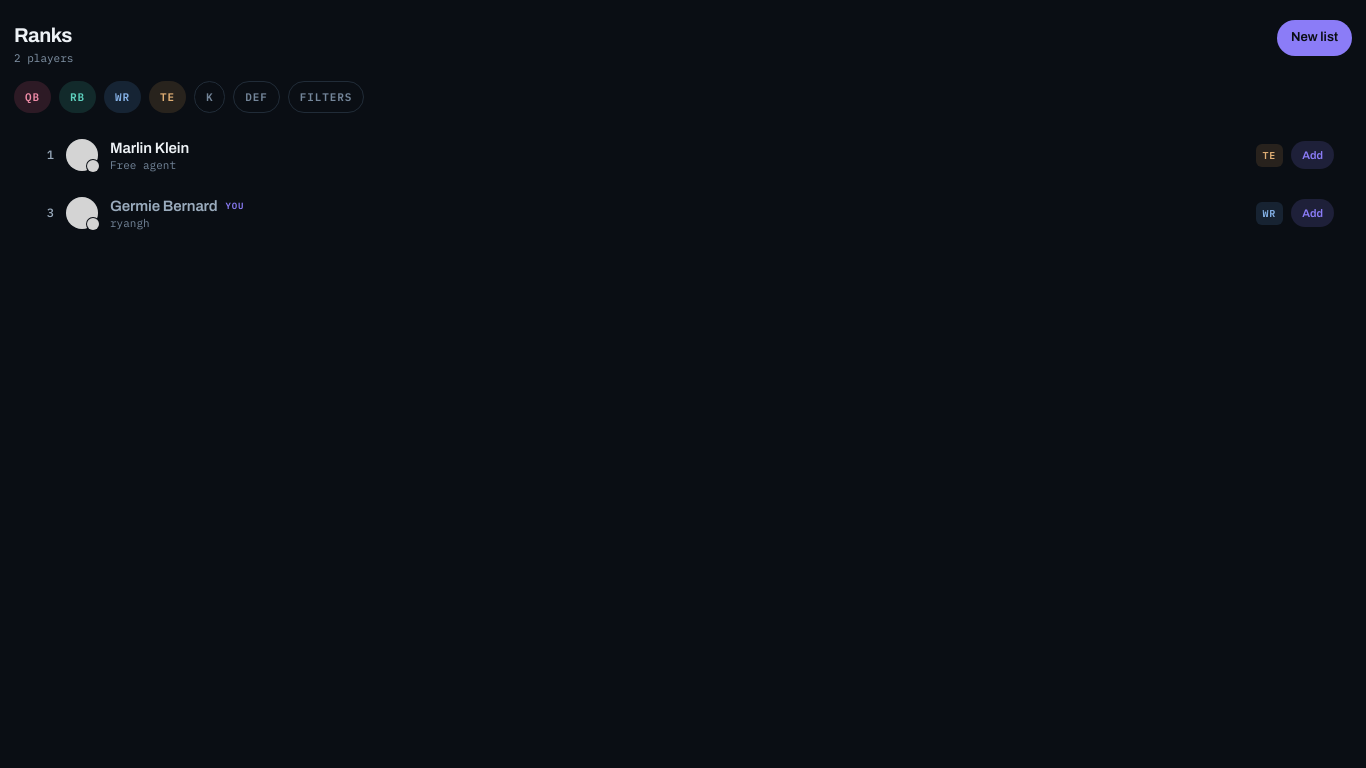
Scenario: RanksPanel player filters › counts non-default filters on the FILTERS chip, and shows no count when everything is default
Click the button "FILTERS".
click(326, 97)  # box [288, 80, 364, 113]
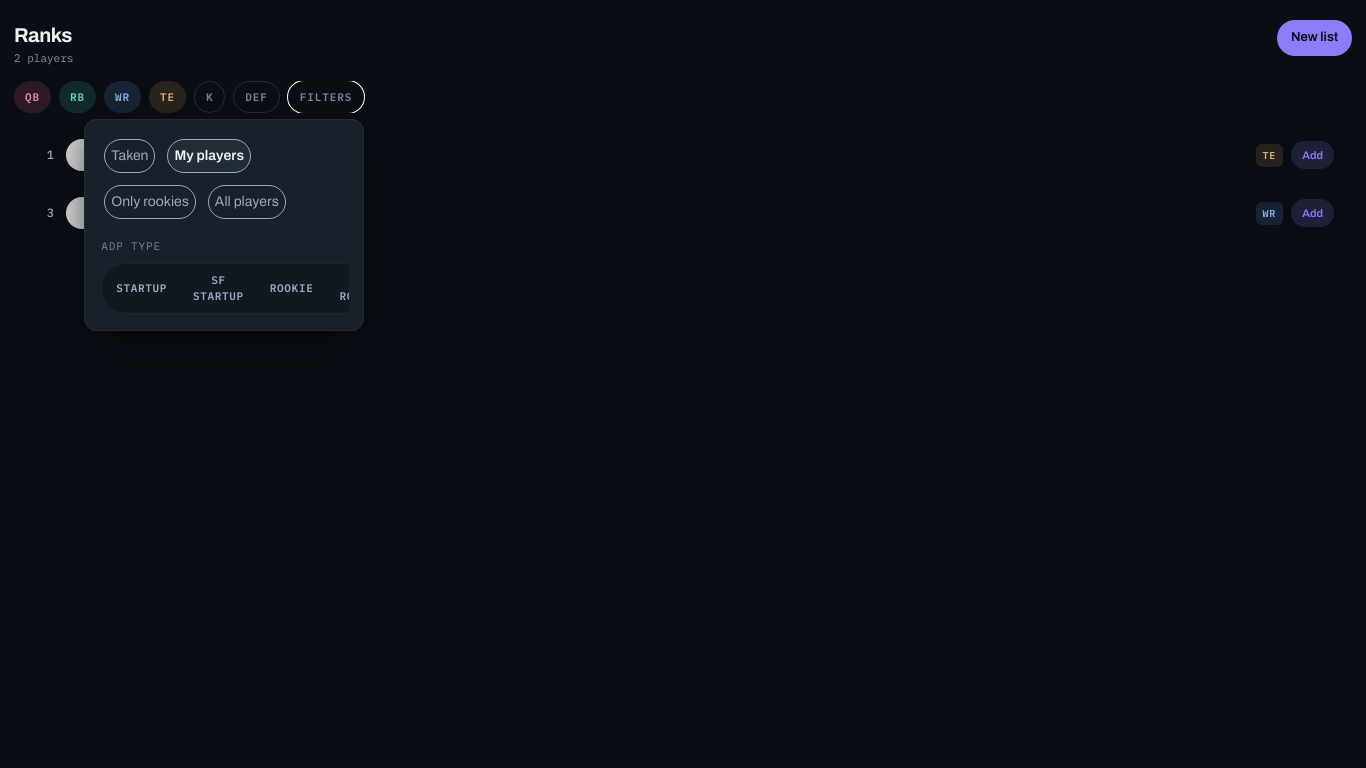
Click the checkbox labelled "Taken".
click(130, 156)  # box [104, 139, 156, 173]
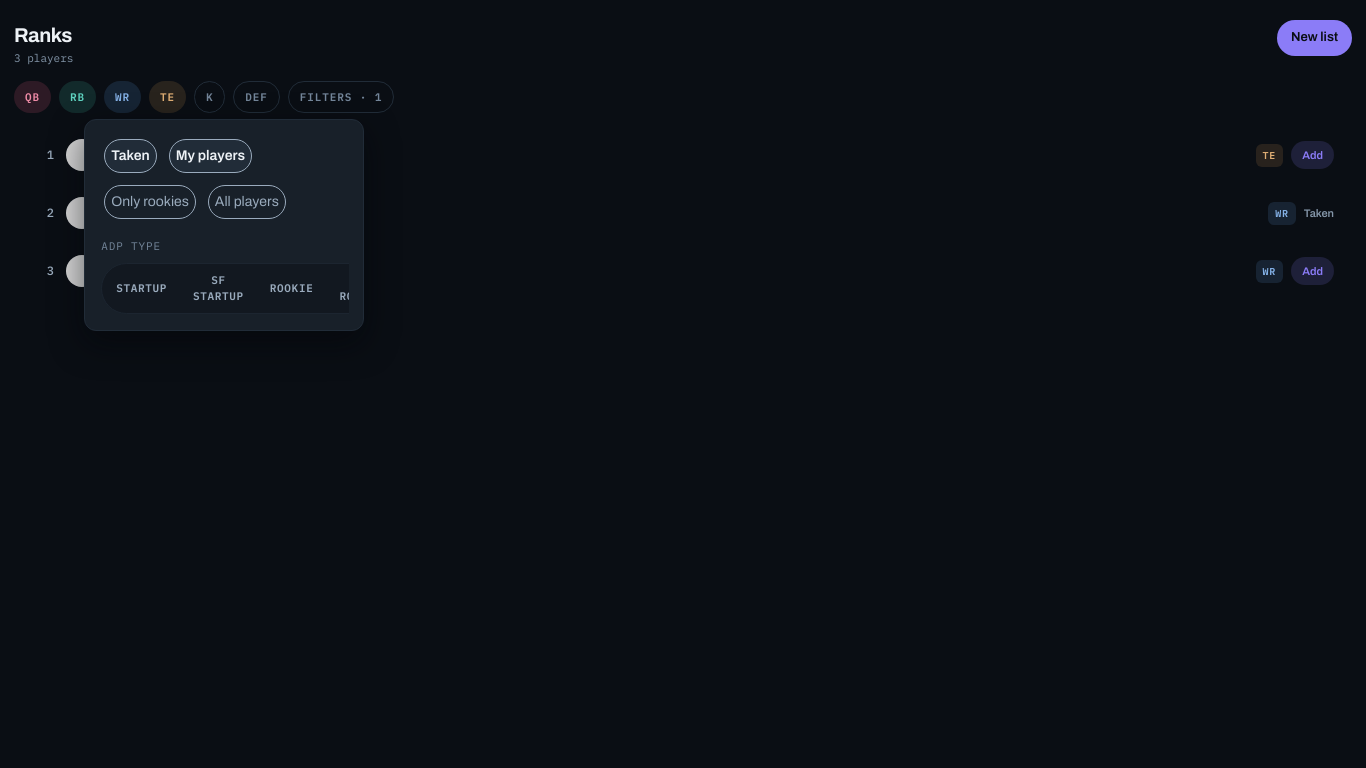
Now the button "FILTERS · 1" is shown, box [288, 80, 394, 113]
Click the checkbox labelled "Only rookies".
click(150, 202)  # box [104, 185, 196, 219]
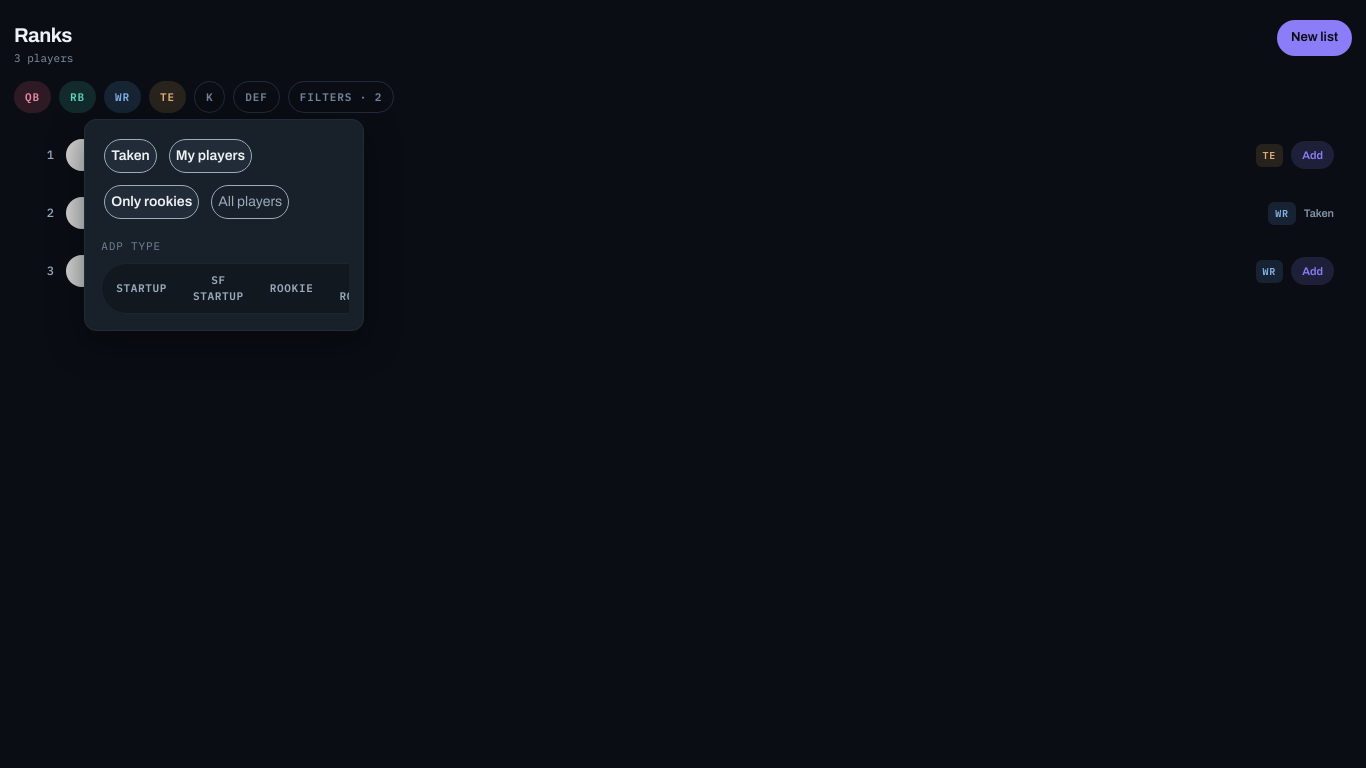
Now the button "FILTERS · 2" is shown, box [288, 80, 394, 113]
Click the checkbox labelled "My players".
click(210, 156)  # box [169, 139, 252, 173]
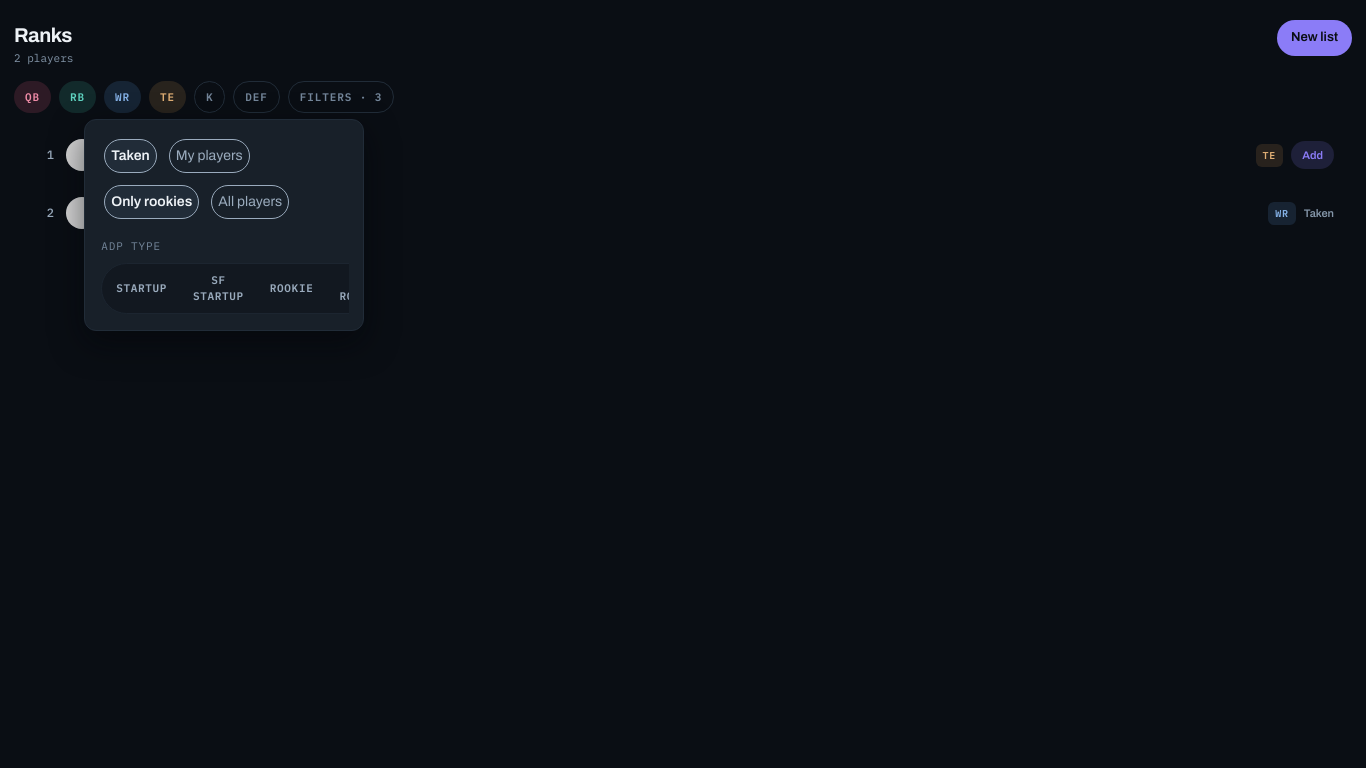
Now the button "FILTERS · 3" is shown, box [288, 80, 394, 113]
